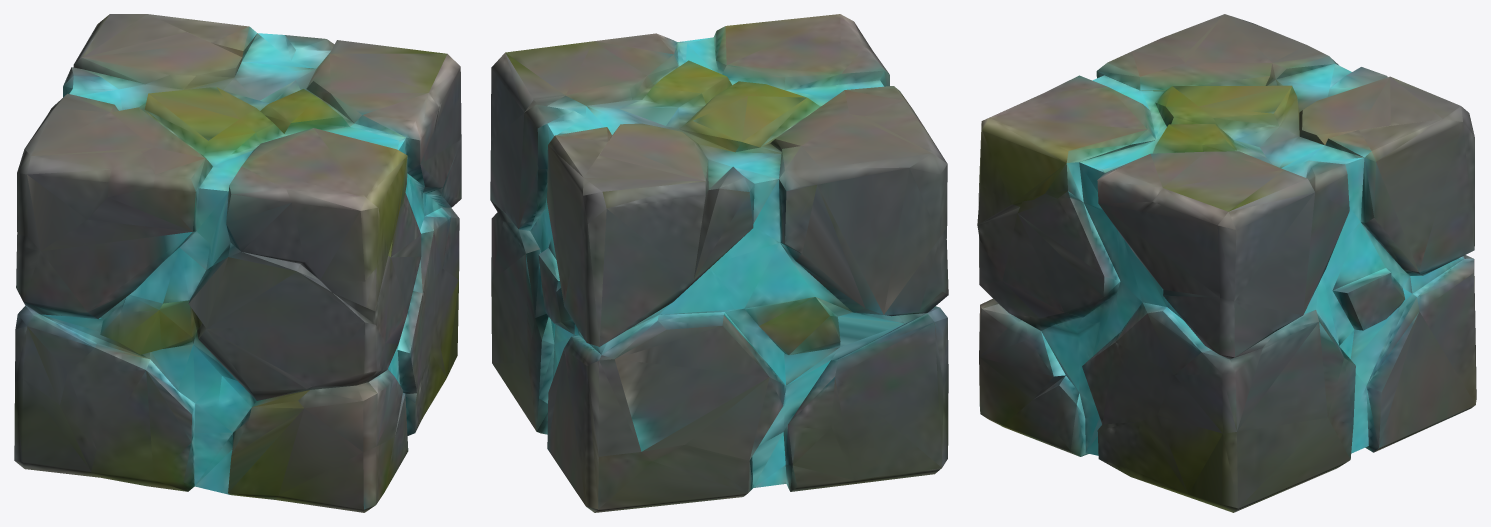
Rendered from bloque_enlace_1000.glb.
3 renders of one model, left to right at view 1: azimuth 30°, elevation 25°; view 2: azimuth 150°, elevation 25°; view 3: azimuth 270°, elevation 25°, orthographic. The views are drawn at different scales.
Visible parts, largest first — view 1: bloque_enlace_malla; view 2: bloque_enlace_malla; view 3: bloque_enlace_malla.
Boxes of the visible parts, x1,y1,x2,y2 form: bloque_enlace_malla: [14, 14, 461, 512]; bloque_enlace_malla: [490, 14, 948, 512]; bloque_enlace_malla: [977, 14, 1476, 512].
Bounding box in the file's own units: 0.3183 × 0.2205 × 0.3226.
Materials: 1 (1 with a texture image).
